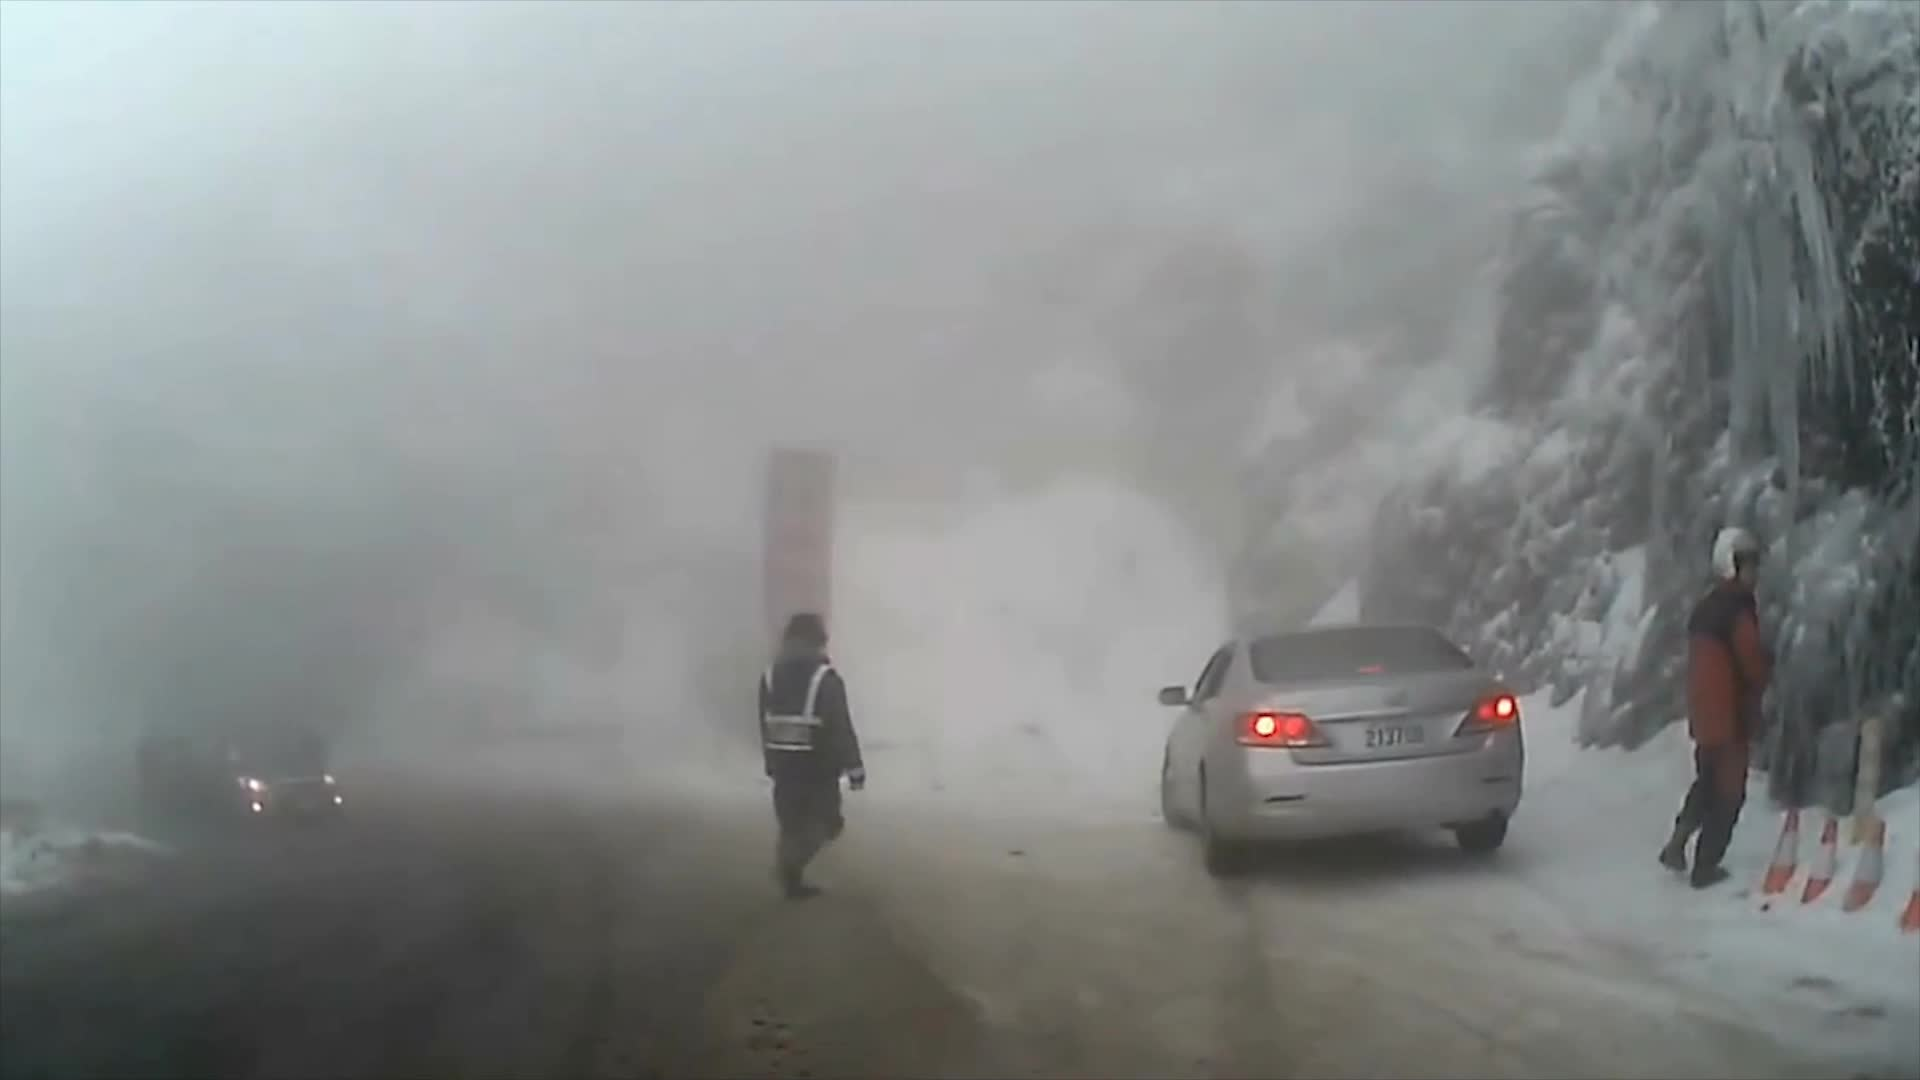pedestrian: (1658, 530, 1784, 892), (758, 613, 865, 908)
vehicle: (1153, 621, 1521, 878)
